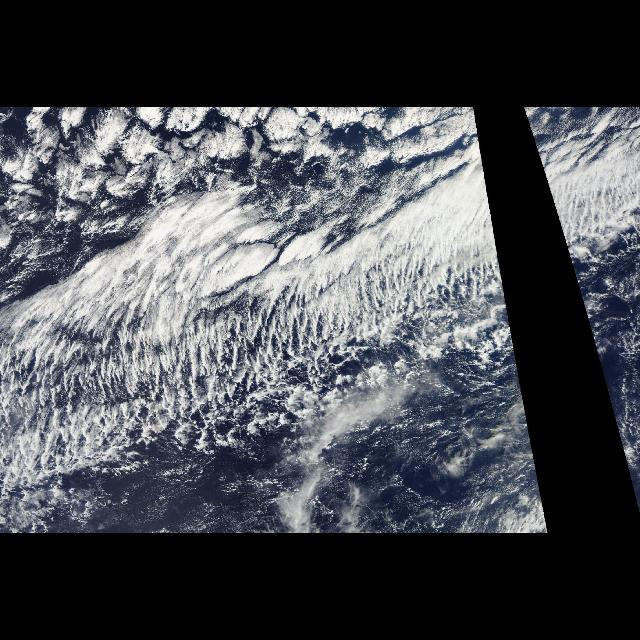Fish: (2, 110, 542, 492), (524, 110, 640, 492)
Flower: (16, 110, 472, 184)
Sugar: (132, 430, 526, 530), (250, 155, 420, 231)
